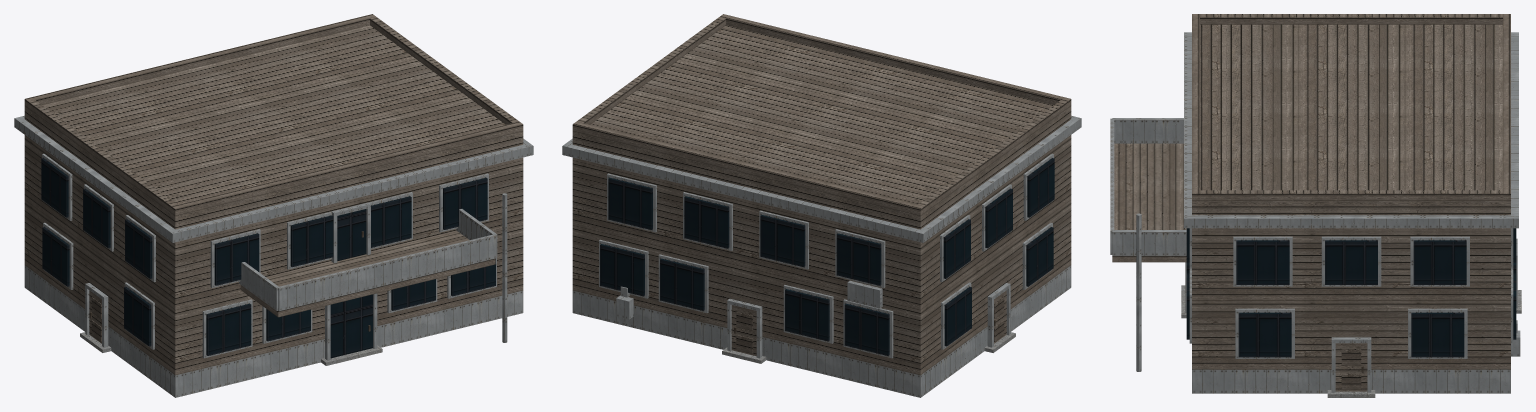
The model's file is port-halcyon-marina-office_lod0.gltf.
3 views of the same model, side by side, from view 1: azimuth 30°, elevation 25°; view 2: azimuth 150°, elevation 25°; view 3: azimuth 270°, elevation 25° (orthographic). The views are drawn at different scales.
Visible parts, largest first — view 1: port-halcyon-marina-office_upper, port-halcyon-marina-office_fen_07-glass-curtain-blue_1_t, port-halcyon-marina-office_base, port-halcyon-marina-office__cornice, port-halcyon-marina-office_fen_14-steel-panel_0, port-halcyon-marina-office__deck_rail_front, port-halcyon-marina-office__deck, port-halcyon-marina-office__parapet_front, port-halcyon-marina-office__parapet_back, port-halcyon-marina-office__parapet_left, port-halcyon-marina-office__parapet_right, port-halcyon-marina-office__deck_rail_left (+3 smaller); view 2: port-halcyon-marina-office_upper, port-halcyon-marina-office_fen_07-glass-curtain-blue_1_t, port-halcyon-marina-office_base, port-halcyon-marina-office_fen_14-steel-panel_0, port-halcyon-marina-office__cornice, port-halcyon-marina-office__parapet_back, port-halcyon-marina-office__parapet_front, port-halcyon-marina-office__parapet_left, port-halcyon-marina-office__parapet_right, port-halcyon-marina-office_fen_18-timber-siding_4, port-halcyon-marina-office_fen_18-timber-siding_5_t, port-halcyon-marina-office_fen_06-granite_3; view 3: port-halcyon-marina-office_upper, port-halcyon-marina-office_fen_07-glass-curtain-blue_1_t, port-halcyon-marina-office__cornice, port-halcyon-marina-office_base, port-halcyon-marina-office__deck, port-halcyon-marina-office_fen_14-steel-panel_0, port-halcyon-marina-office__parapet_left, port-halcyon-marina-office__parapet_right, port-halcyon-marina-office__deck_rail_right, port-halcyon-marina-office__deck_rail_left, port-halcyon-marina-office__parapet_front, port-halcyon-marina-office__parapet_back (+5 smaller).
Boxes of the visible parts, x1=… form: port-halcyon-marina-office_upper: x1=24, y1=25, x2=523, y2=374; port-halcyon-marina-office_fen_07-glass-curtain-blue_1_t: x1=41, y1=158, x2=495, y2=358; port-halcyon-marina-office_base: x1=24, y1=265, x2=523, y2=397; port-halcyon-marina-office__cornice: x1=14, y1=115, x2=533, y2=242; port-halcyon-marina-office_fen_14-steel-panel_0: x1=42, y1=153, x2=496, y2=360; port-halcyon-marina-office__deck_rail_front: x1=277, y1=234, x2=496, y2=311; port-halcyon-marina-office__deck: x1=240, y1=230, x2=495, y2=317; port-halcyon-marina-office__parapet_front: x1=171, y1=121, x2=523, y2=215; port-halcyon-marina-office__parapet_back: x1=24, y1=14, x2=375, y2=108; port-halcyon-marina-office__parapet_left: x1=28, y1=100, x2=177, y2=212; port-halcyon-marina-office__parapet_right: x1=370, y1=17, x2=518, y2=124; port-halcyon-marina-office__deck_rail_left: x1=239, y1=262, x2=278, y2=310; port-halcyon-marina-office_upper: x1=572, y1=25, x2=1071, y2=374; port-halcyon-marina-office_fen_07-glass-curtain-blue_1_t: x1=600, y1=158, x2=1054, y2=355; port-halcyon-marina-office_base: x1=572, y1=265, x2=1071, y2=397; port-halcyon-marina-office_fen_14-steel-panel_0: x1=599, y1=153, x2=1053, y2=358; port-halcyon-marina-office__cornice: x1=562, y1=115, x2=1081, y2=242; port-halcyon-marina-office__parapet_back: x1=572, y1=121, x2=924, y2=215; port-halcyon-marina-office__parapet_front: x1=720, y1=14, x2=1071, y2=108; port-halcyon-marina-office__parapet_left: x1=918, y1=100, x2=1067, y2=212; port-halcyon-marina-office__parapet_right: x1=577, y1=17, x2=725, y2=124; port-halcyon-marina-office_fen_18-timber-siding_4: x1=731, y1=290, x2=1006, y2=356; port-halcyon-marina-office_fen_18-timber-siding_5_t: x1=736, y1=297, x2=1004, y2=353; port-halcyon-marina-office_fen_06-granite_3: x1=722, y1=332, x2=1015, y2=363; port-halcyon-marina-office_upper: x1=1192, y1=24, x2=1510, y2=369; port-halcyon-marina-office_fen_07-glass-curtain-blue_1_t: x1=1186, y1=228, x2=1516, y2=357; port-halcyon-marina-office__cornice: x1=1184, y1=32, x2=1518, y2=228; port-halcyon-marina-office_base: x1=1192, y1=369, x2=1510, y2=393; port-halcyon-marina-office__deck: x1=1112, y1=143, x2=1186, y2=262; port-halcyon-marina-office_fen_14-steel-panel_0: x1=1185, y1=228, x2=1520, y2=392; port-halcyon-marina-office__parapet_left: x1=1200, y1=14, x2=1502, y2=24; port-halcyon-marina-office__parapet_right: x1=1200, y1=190, x2=1502, y2=200; port-halcyon-marina-office__deck_rail_right: x1=1112, y1=230, x2=1186, y2=255; port-halcyon-marina-office__deck_rail_left: x1=1112, y1=118, x2=1183, y2=143; port-halcyon-marina-office__parapet_front: x1=1192, y1=14, x2=1199, y2=200; port-halcyon-marina-office__parapet_back: x1=1503, y1=14, x2=1510, y2=200.
Size of the model in its own units: 16.8 by 8.3 by 15.47.
